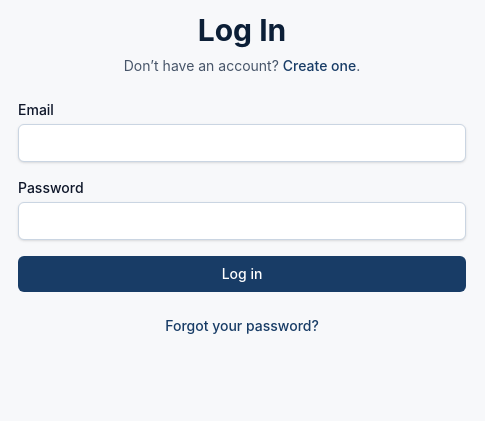
Test: <LoginPage /> › shows a generic "no match" error on 401 invalid_credentials
The image size is (485, 421).
Type "jane@example.com" into the field labelled "Email" at (242, 143), box [18,124,466,162]
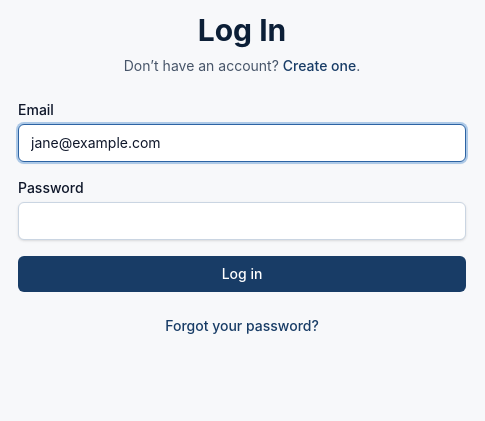
Type "wrong" into the password field labelled "Password" at (242, 221), box [18,202,466,240]
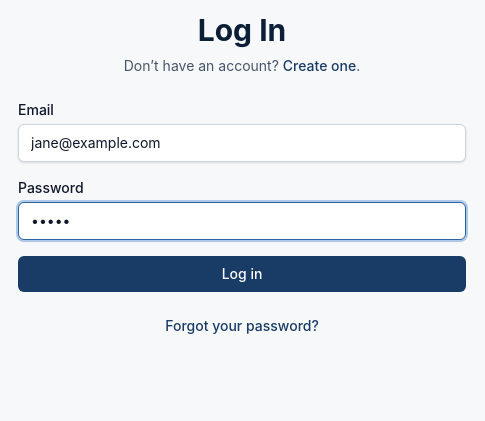
Click the button "Log in" at (242, 274), box [18,256,466,292]
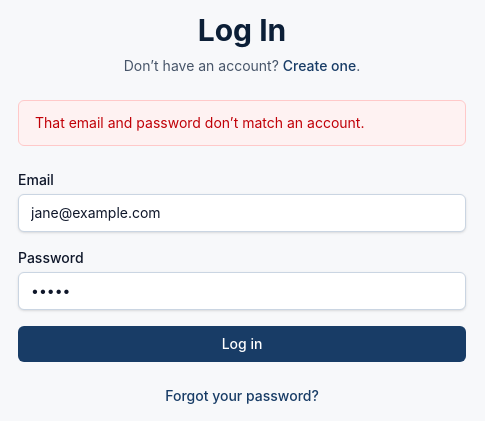
Expected: the message reads "That email and password don’t match an account.", [35,114,364,131]
